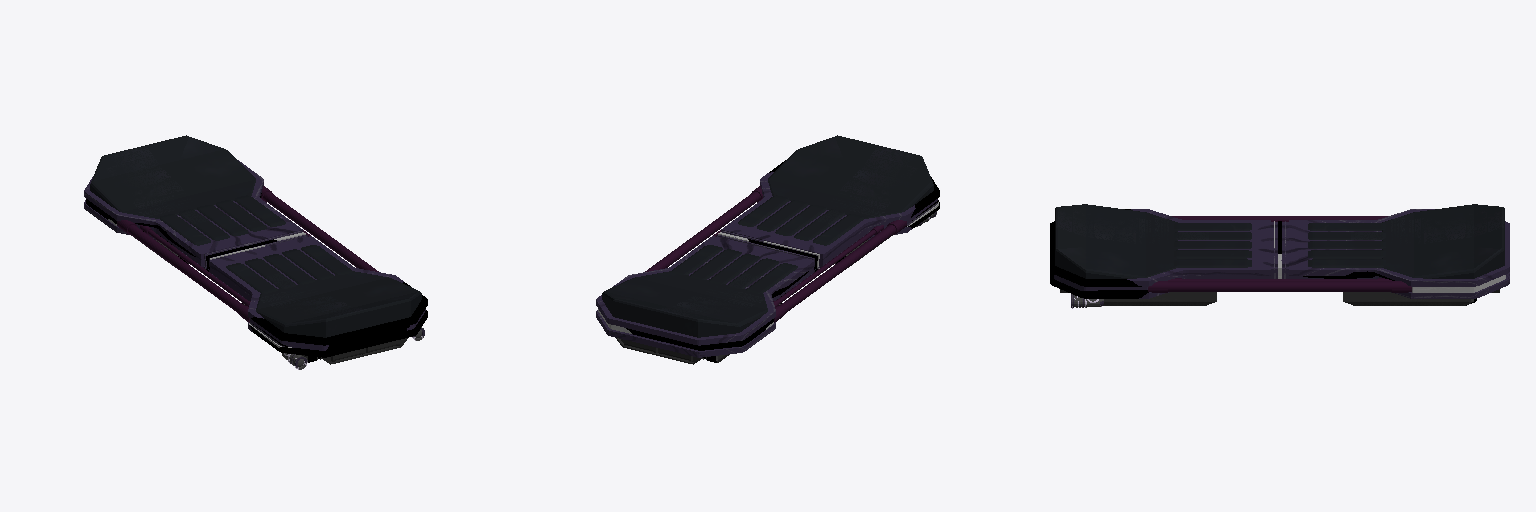
3 views of the same model, side by side, from view 1: azimuth 30°, elevation 25°; view 2: azimuth 150°, elevation 25°; view 3: azimuth 270°, elevation 25° (orthographic).
Parts seen in each view (by area): view 1: Object_14_Object_1.002, Object_12_Object_0.002, Object_28_Object_8.002, Object_16_Object_2.002; view 2: Object_14_Object_1.002, Object_12_Object_0.002, Object_28_Object_8.002, Object_16_Object_2.002; view 3: Object_14_Object_1.002, Object_12_Object_0.002, Object_28_Object_8.002, Object_18_Object_3.002.
Boxes of the visible parts, x1=… form: Object_14_Object_1.002: x1=90, y1=135, x2=421, y2=337; Object_12_Object_0.002: x1=84, y1=160, x2=427, y2=357; Object_28_Object_8.002: x1=117, y1=186, x2=378, y2=322; Object_16_Object_2.002: x1=321, y1=338, x2=407, y2=364; Object_14_Object_1.002: x1=602, y1=135, x2=933, y2=337; Object_12_Object_0.002: x1=596, y1=160, x2=939, y2=357; Object_28_Object_8.002: x1=645, y1=186, x2=906, y2=322; Object_16_Object_2.002: x1=616, y1=338, x2=702, y2=364; Object_14_Object_1.002: x1=1055, y1=204, x2=1504, y2=278; Object_12_Object_0.002: x1=1050, y1=209, x2=1509, y2=298; Object_28_Object_8.002: x1=1148, y1=216, x2=1411, y2=292; Object_18_Object_3.002: x1=1103, y1=292, x2=1476, y2=305.
Bounding box in the file's own units: 2.6 × 0.9591 × 7.
9 materials, 8 textured.